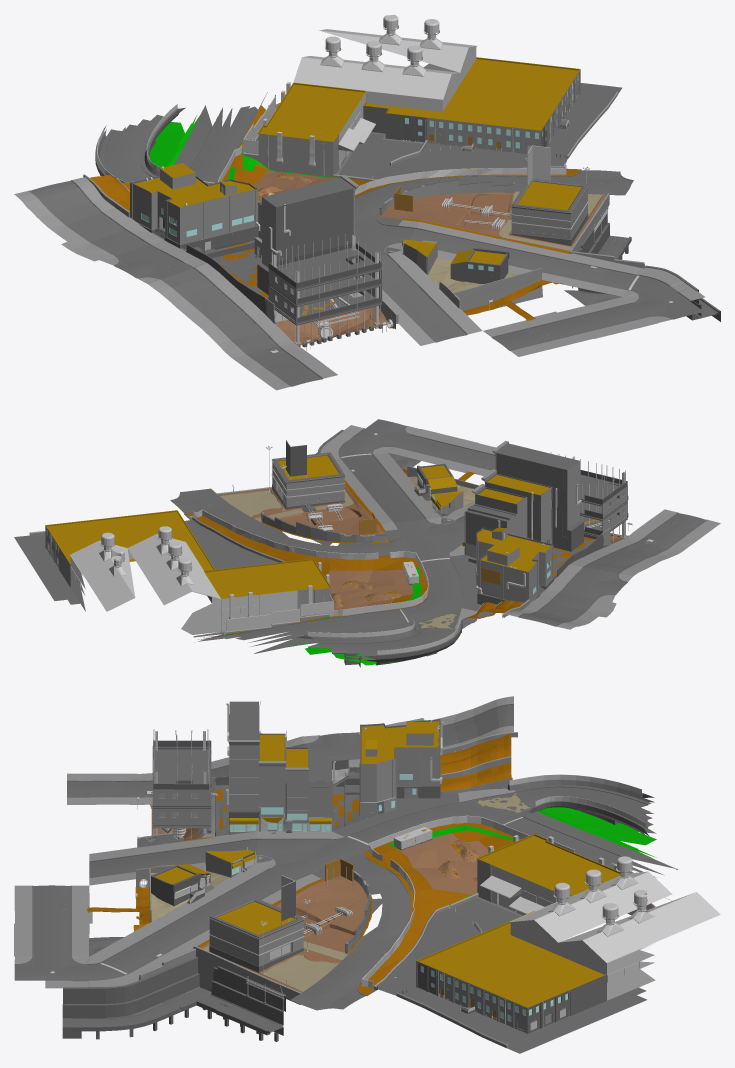
Rendered from bronx_e_11.FBX.
3 views of the same model, one above another, from view 1: azimuth 30°, elevation 25°; view 2: azimuth 150°, elevation 25°; view 3: azimuth 270°, elevation 25° (orthographic). The views are drawn at different scales.
Visible parts, largest first — view 1: unnamed, null; view 2: unnamed, null; view 3: unnamed, null.
Boxes of the visible parts, x1,y1,x2,y2 form: unnamed: (14, 19, 720, 390); null: (259, 14, 561, 216); unnamed: (14, 419, 720, 667); null: (99, 511, 372, 641); unnamed: (14, 696, 719, 1053); null: (309, 856, 720, 984).
Bounding box in the file's own units: 236 × 54.82 × 227.
